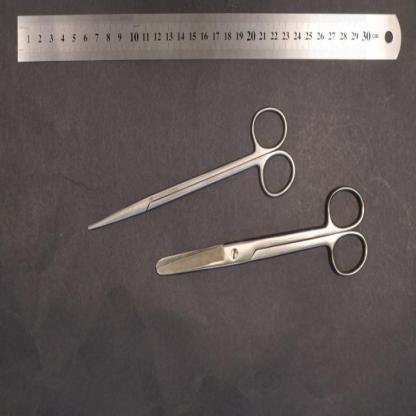7 Metzenbaum Scissors: (88, 102, 297, 230)
Dressing Scissors: (156, 184, 370, 278)
